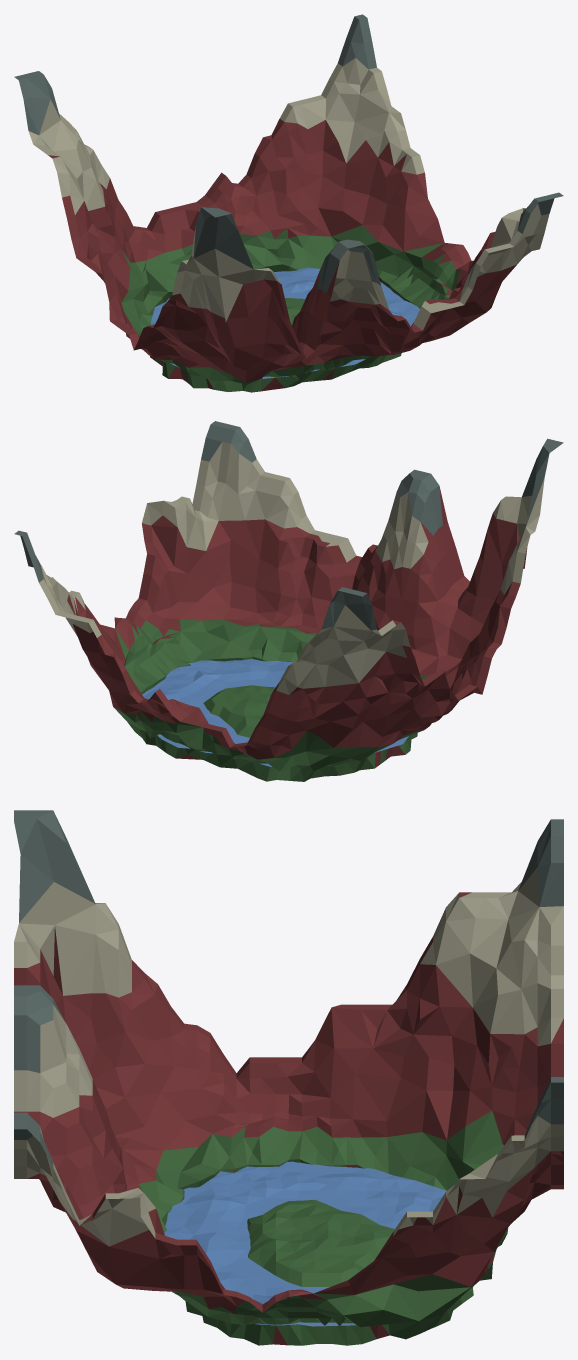
Rendered from valley.glb.
The picture shows the model from 3 angles, top to bottom: view 1: azimuth 30°, elevation 25°; view 2: azimuth 150°, elevation 25°; view 3: azimuth 270°, elevation 25°; orthographic projection. The views are drawn at different scales.
Parts seen in each view (by area): view 1: Plane, Plane.001; view 2: Plane, Plane.001; view 3: Plane, Plane.001.
Part boxes in pixels (x1,y1,x2,y2): Plane: (14,14,563,392); Plane.001: (150,267,419,379); Plane: (14,421,563,781); Plane.001: (142,659,408,766); Plane: (14,810,563,1345); Plane.001: (164,1161,446,1326).
Bounding box in the file's own units: 13.44 × 8.59 × 12.65.
Materials: 2 (1 with a texture image).
